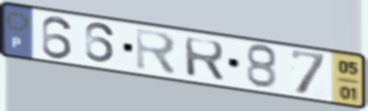6: (40, 14, 75, 61), (83, 21, 118, 67)
7: (289, 48, 328, 97)
8: (244, 43, 281, 92)
R: (134, 26, 180, 78), (182, 35, 228, 84)
